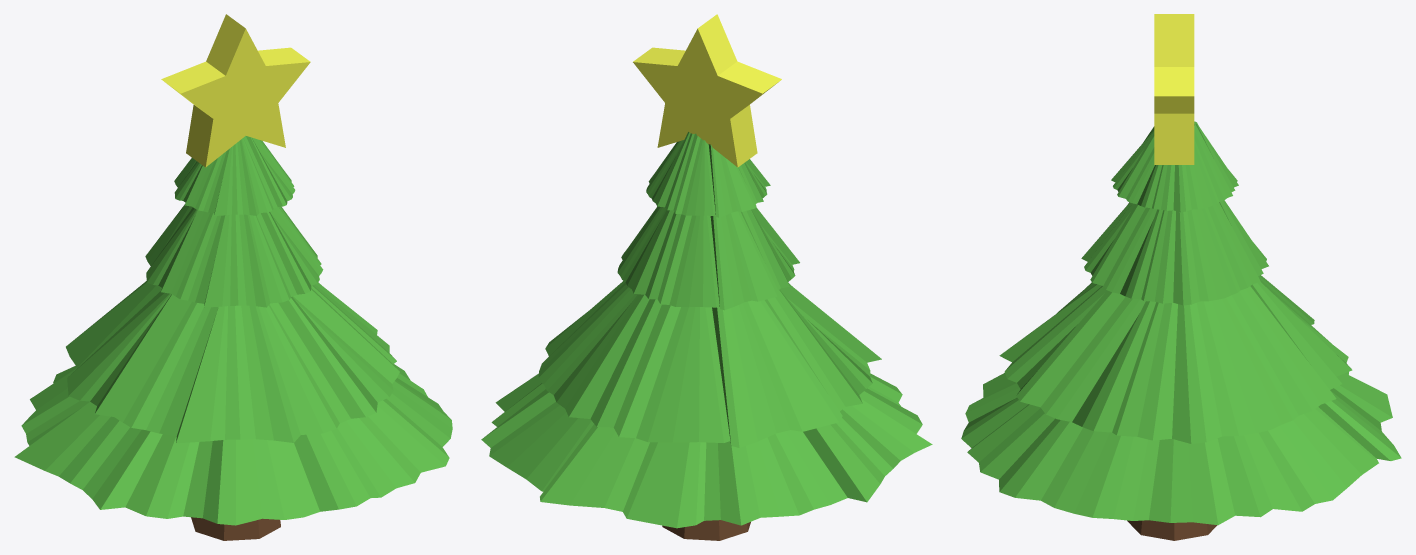
File: christmas-tree.glb
3 views of the same model, side by side, from view 1: azimuth 30°, elevation 25°; view 2: azimuth 150°, elevation 25°; view 3: azimuth 270°, elevation 25° (orthographic).
Parts seen in each view (by area): view 1: Chirstmas Tree; view 2: Chirstmas Tree; view 3: Chirstmas Tree.
Boxes of the visible parts, left/top/right/bottom form: Chirstmas Tree: left=14, top=14, right=452, bottom=540; Chirstmas Tree: left=481, top=14, right=932, bottom=540; Chirstmas Tree: left=961, top=14, right=1401, bottom=540.
Size of the model in its own units: 9.41 by 11.81 by 9.3.
1 material, 1 textured.
